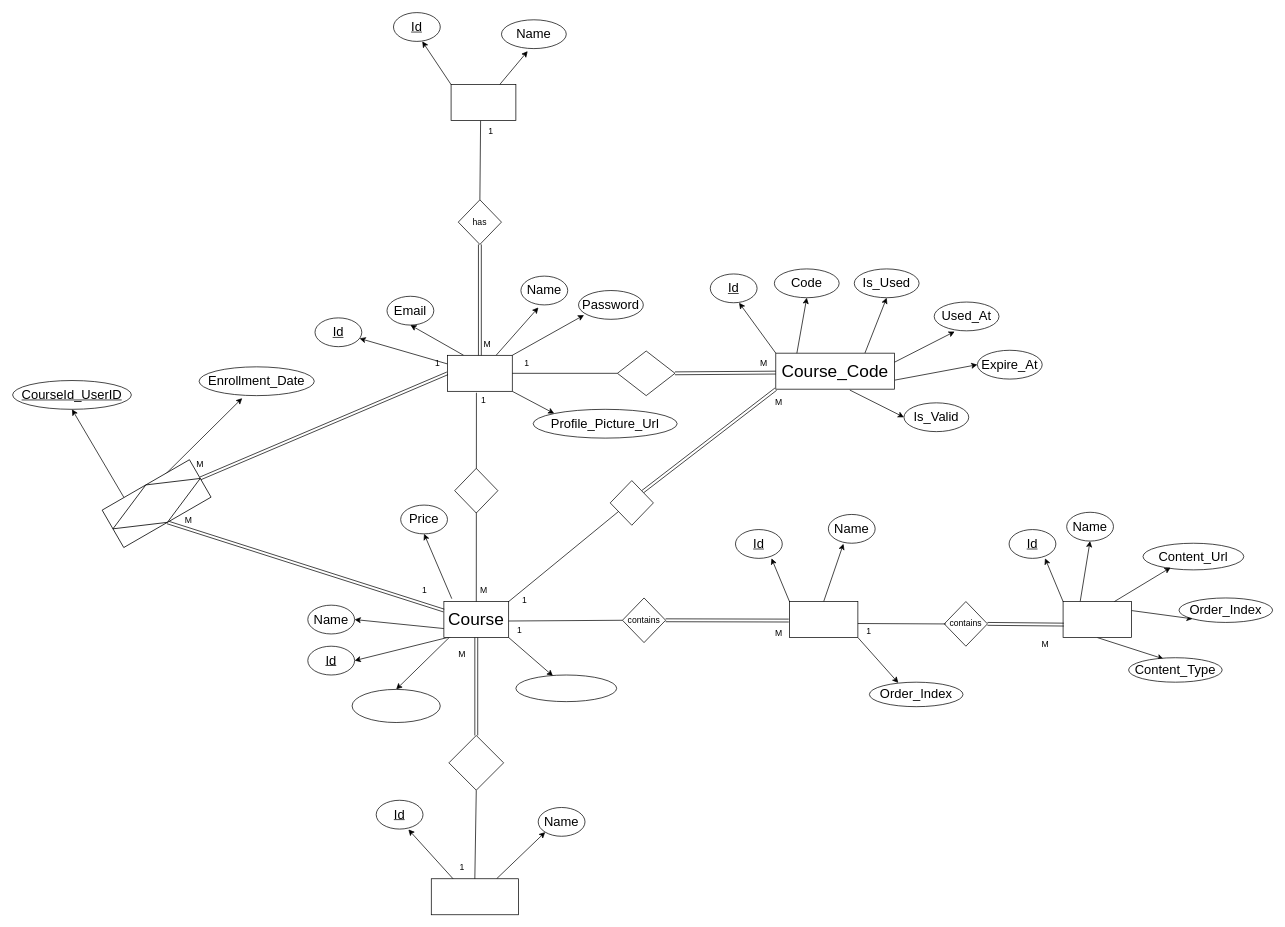
This 1285x927 diagram has some shape labels left out. Each missing label, with the centre of its shape:
"belongs_to" belongs at point 476,762.
"Category" belongs at point 474,896.
"creates" belongs at point 476,490.
"Describtion" belongs at point 395,706.
"Enrollment" belongs at point 156,503.
"generates" belongs at point 646,373.
"Lesson" belongs at point 1096,619.
"Role" belongs at point 483,102.
"Section" belongs at point 823,619.
"Thumbnail_Url" belongs at point 566,688.
"Used" belongs at point 631,502.
"User" belongs at point 479,373.
